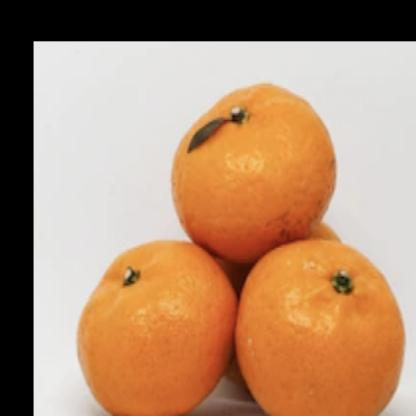fresh: (82, 83, 409, 416)
